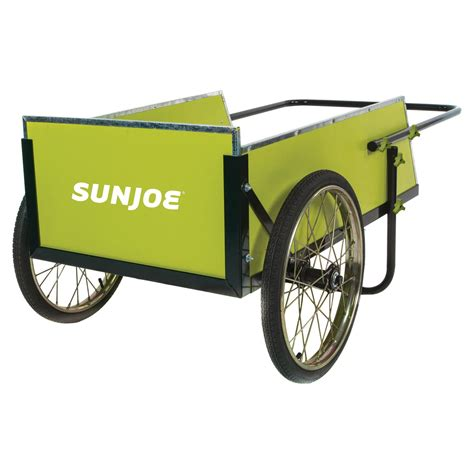Carts: (10, 88, 462, 383)
